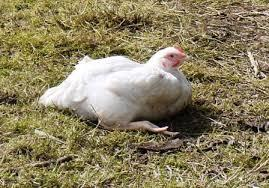AbNormal: (34, 39, 203, 138)
